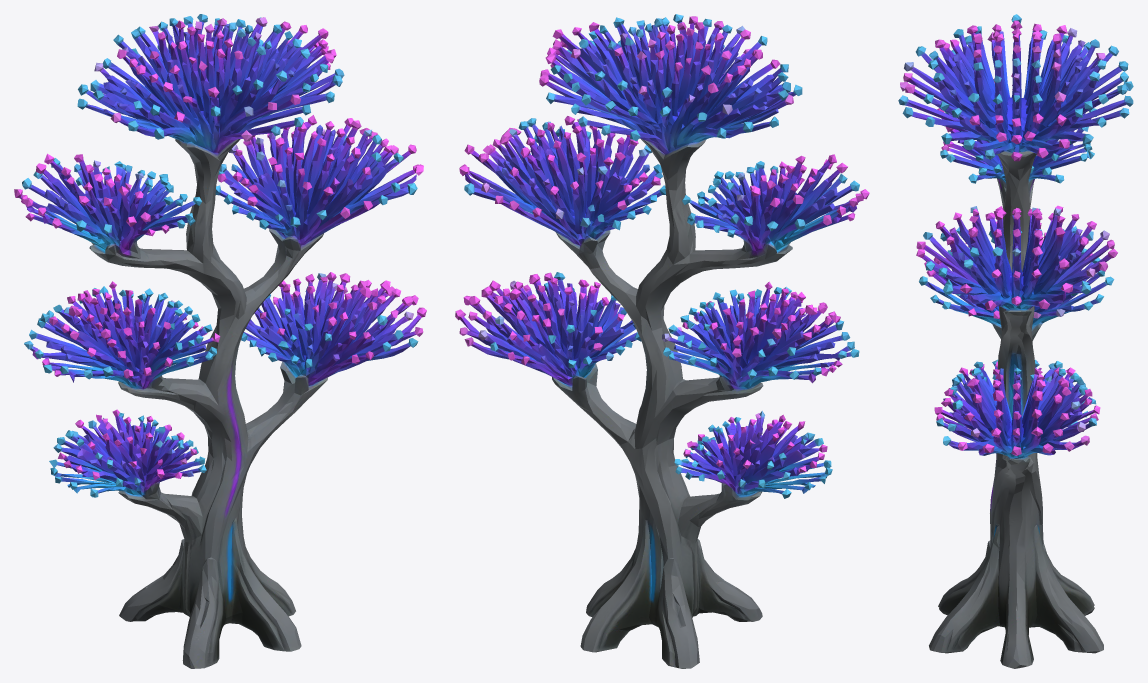
3 views of the same model, side by side, from view 1: azimuth 30°, elevation 25°; view 2: azimuth 150°, elevation 25°; view 3: azimuth 270°, elevation 25° (orthographic).
Visible parts, largest first — view 1: model; view 2: model; view 3: model.
Part boxes in pixels (x1,y1,x2,y2): model: (14, 14, 426, 668); model: (455, 14, 869, 668); model: (898, 14, 1133, 668).
Bounding box in the file's own units: 1.3 × 1.9 × 0.6818.
Materials: 1 (1 with a texture image).
